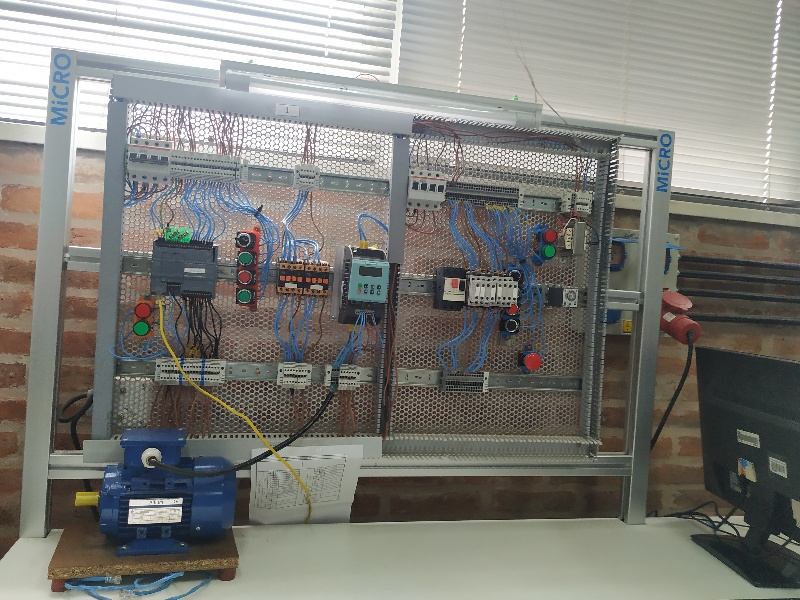Tablero 1: (115, 105, 613, 456)
